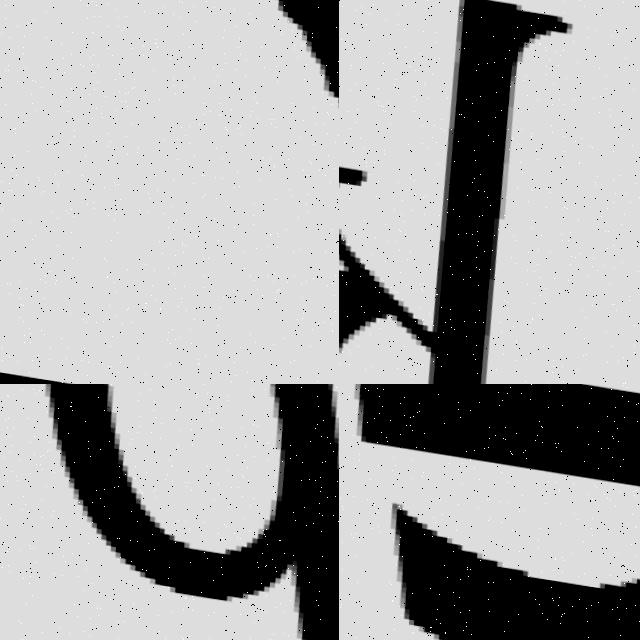E: (387, 502, 640, 640), (351, 384, 640, 484)
K: (339, 0, 593, 384)
P: (41, 384, 339, 640)
R: (16, 0, 339, 384)
